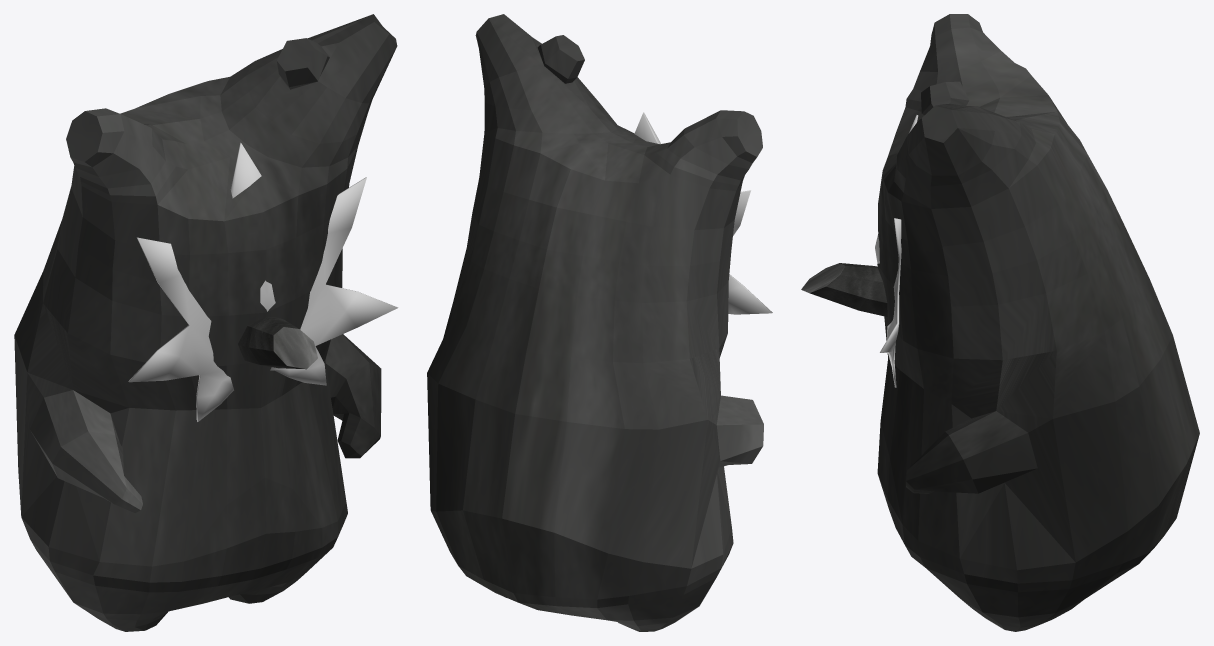
Rendered from frame_0004.obj.
The picture shows the model from 3 angles, left to right: view 1: azimuth 30°, elevation 25°; view 2: azimuth 150°, elevation 25°; view 3: azimuth 270°, elevation 25°; orthographic projection. The views are drawn at different scales.
Parts seen in each view (by area): view 1: korok, leaf, nose.003_柱体.011; view 2: korok, leaf; view 3: korok, nose.003_柱体.011, leaf.
Part boxes in pixels (box(x1,y1,x2,y2)): korok: box(14, 14, 397, 631); leaf: box(128, 142, 398, 421); nose.003_柱体.011: box(238, 316, 317, 369); korok: box(427, 14, 763, 631); leaf: box(634, 112, 772, 314); korok: box(877, 14, 1199, 631); nose.003_柱体.011: box(801, 263, 887, 316); leaf: box(875, 115, 918, 387).
Bounding box in the file's own units: 1.29 × 2.22 × 1.43.
